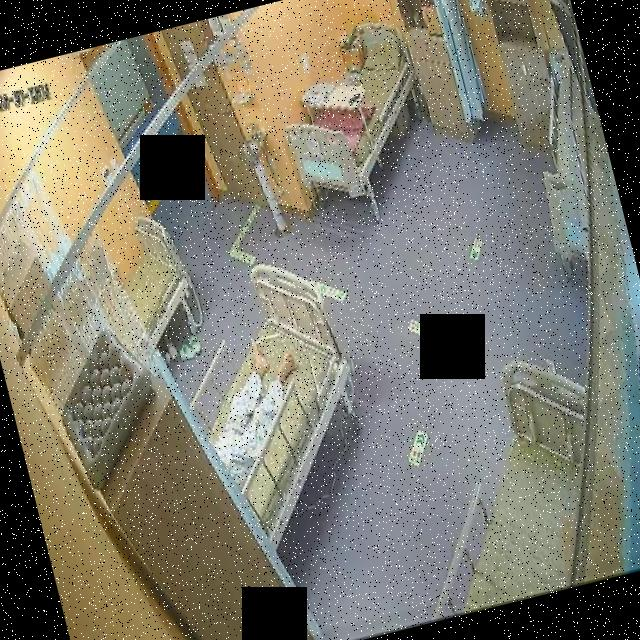bed: (378, 348, 632, 622), (170, 250, 388, 556), (264, 13, 444, 211), (109, 208, 202, 350)
lie: (190, 322, 321, 490)
patient: (191, 326, 322, 490)
